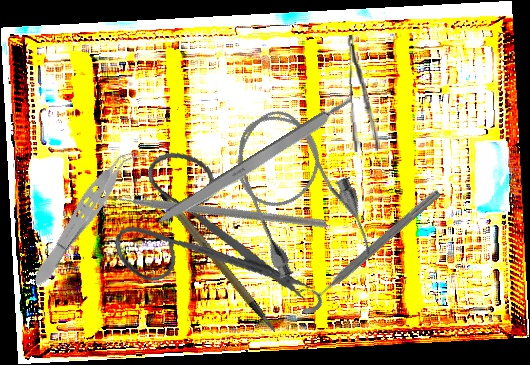Cannula: (215, 92, 381, 292)
Chopper: (97, 100, 328, 307)
Dressing Forceps: (345, 33, 381, 153)
Fixation Ring: (289, 177, 445, 319)
Iris Scissors: (100, 131, 319, 334)
Scalpel Handle: (153, 95, 357, 231), (157, 179, 277, 348)
Tissue Forceps: (25, 138, 145, 293)
